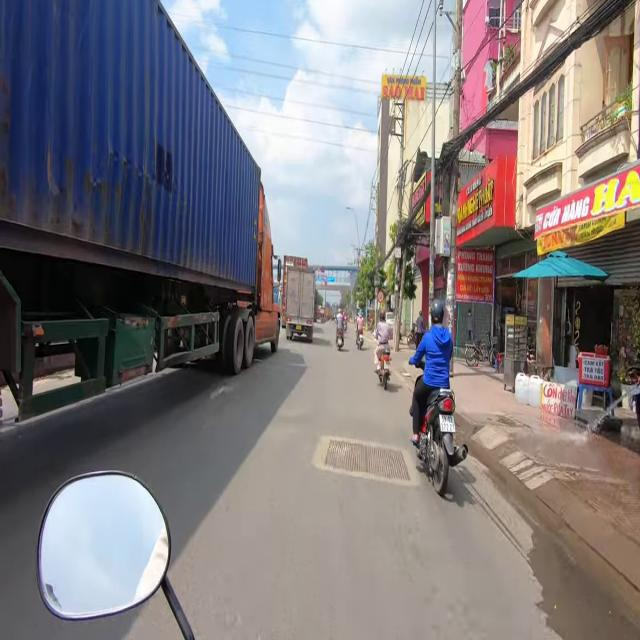bien_trang: (438, 413, 457, 434)
